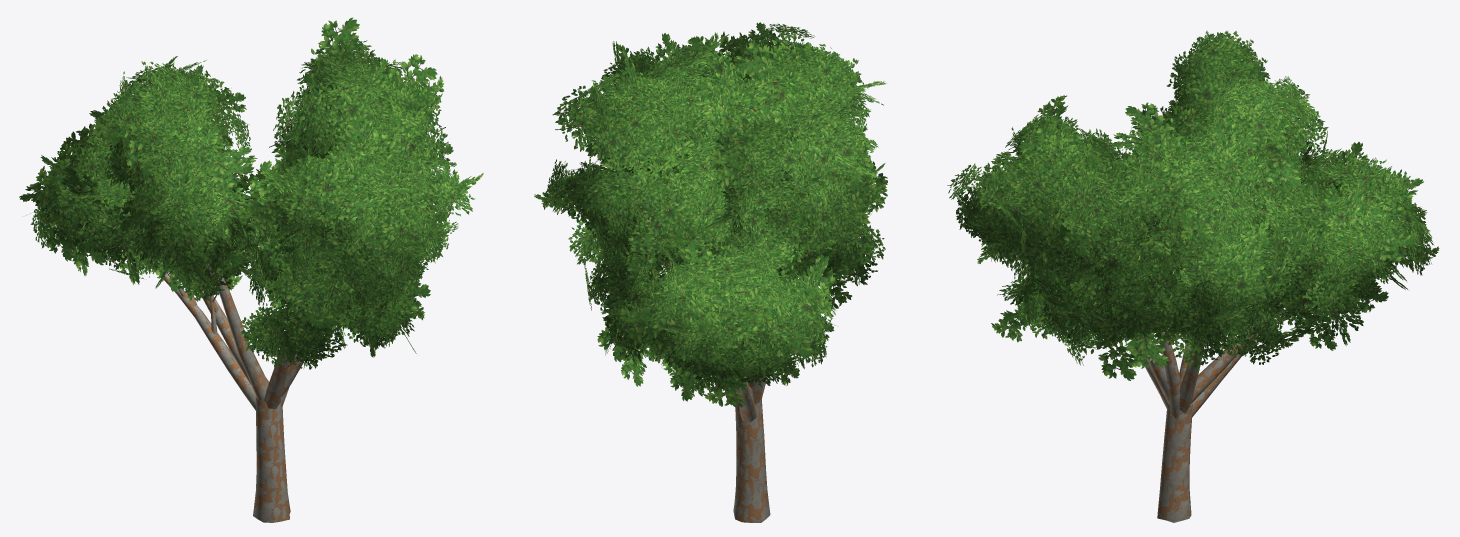
The model's file is Keyaki_C.fbx.
3 renders of one model, left to right at view 1: azimuth 30°, elevation 25°; view 2: azimuth 150°, elevation 25°; view 3: azimuth 270°, elevation 25°, orthographic. The views are drawn at different scales.
Parts seen in each view (by area): view 1: Keyaki_C; view 2: Keyaki_C; view 3: Keyaki_C.
Part boxes in pixels (bbox=[...]): Keyaki_C: bbox=[19, 17, 483, 522]; Keyaki_C: bbox=[534, 22, 887, 522]; Keyaki_C: bbox=[947, 30, 1439, 522].
Size of the model in its own units: 7.54 by 9.35 by 9.62.
2 materials, 2 textured.
